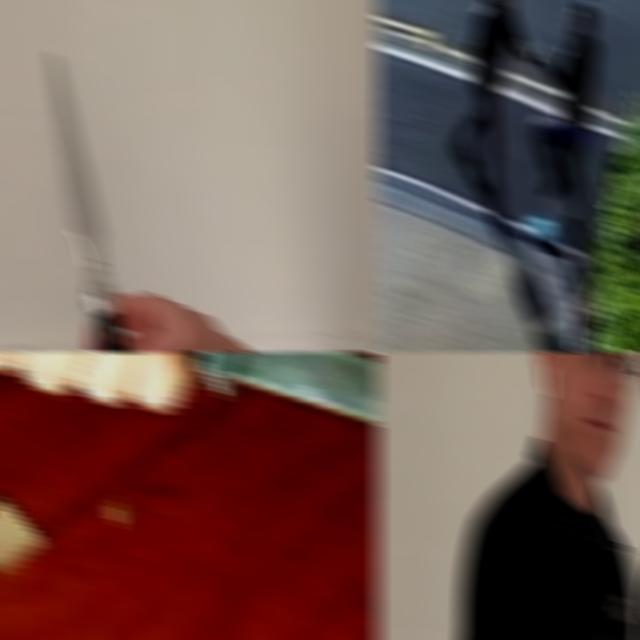Knife: (189, 352, 380, 431)
Knife_Handle: (47, 50, 235, 352), (0, 352, 380, 465), (550, 28, 572, 56)
